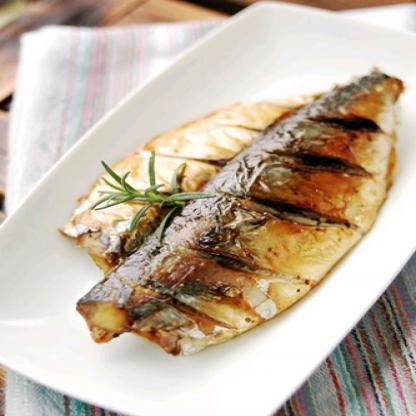Peixe: (35, 59, 416, 359)
